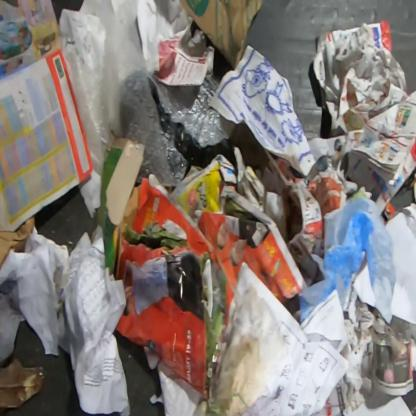cardboard: (96, 136, 146, 276), (180, 0, 263, 70), (0, 214, 36, 272)
soft_plastic: (57, 0, 237, 189)
